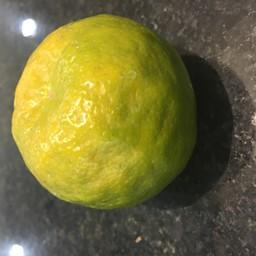Good_orange: (4, 8, 194, 215)
